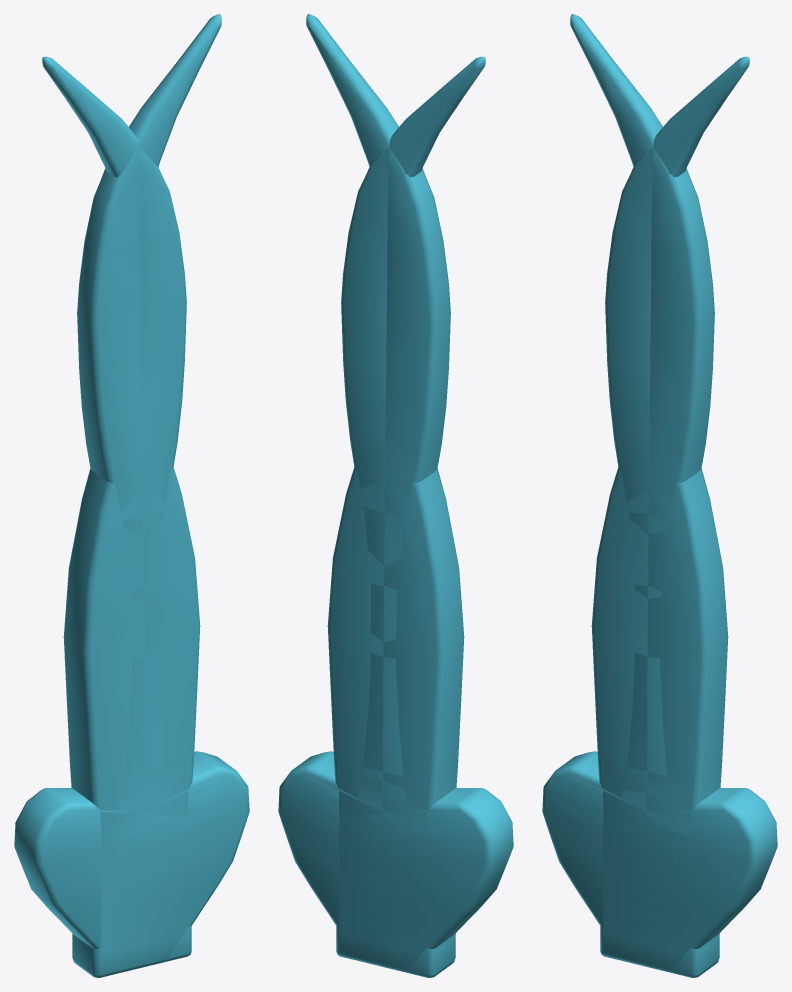
File: hearthDoorBlue_GEO.fbx
The picture shows the model from 3 angles, left to right: view 1: azimuth 30°, elevation 25°; view 2: azimuth 150°, elevation 25°; view 3: azimuth 330°, elevation 25°; orthographic projection.
Visible parts, largest first — view 1: Hearthdoor_Blue_GEO, Hearthdoor_Blue_GEO.001; view 2: Hearthdoor_Blue_GEO.001, Hearthdoor_Blue_GEO; view 3: Hearthdoor_Blue_GEO, Hearthdoor_Blue_GEO.001.
Boxes of the visible parts, x1,y1,x2,y2 form: Hearthdoor_Blue_GEO: (42,56,249,977); Hearthdoor_Blue_GEO.001: (14,14,221,972); Hearthdoor_Blue_GEO.001: (306,14,513,969); Hearthdoor_Blue_GEO: (278,56,485,977); Hearthdoor_Blue_GEO: (570,14,777,969); Hearthdoor_Blue_GEO.001: (542,56,749,977).
Size of the model in its own units: 5.06 by 20.75 by 1.05.
